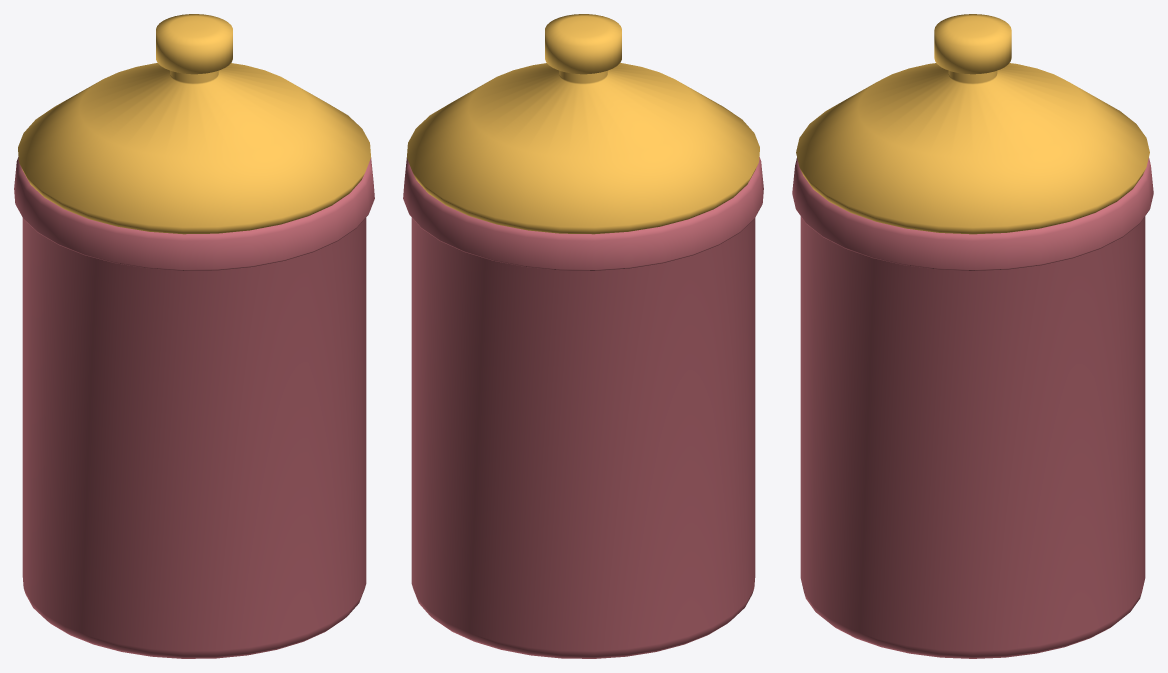
The model's file is jar_2.glb.
The picture shows the model from 3 angles, left to right: view 1: azimuth 30°, elevation 25°; view 2: azimuth 150°, elevation 25°; view 3: azimuth 270°, elevation 25°; orthographic projection.
Parts seen in each view (by area): view 1: Cylinder.011, Cylinder.012; view 2: Cylinder.011, Cylinder.012; view 3: Cylinder.011, Cylinder.012.
Part boxes in pixels (x1=…): Cylinder.011: x1=14, y1=157, x2=374, y2=658; Cylinder.012: x1=18, y1=14, x2=370, y2=234; Cylinder.011: x1=403, y1=157, x2=763, y2=658; Cylinder.012: x1=407, y1=14, x2=759, y2=234; Cylinder.011: x1=792, y1=158, x2=1153, y2=658; Cylinder.012: x1=796, y1=14, x2=1149, y2=234.
Bounding box in the file's own units: 0.2128 × 0.3669 × 0.2128.
